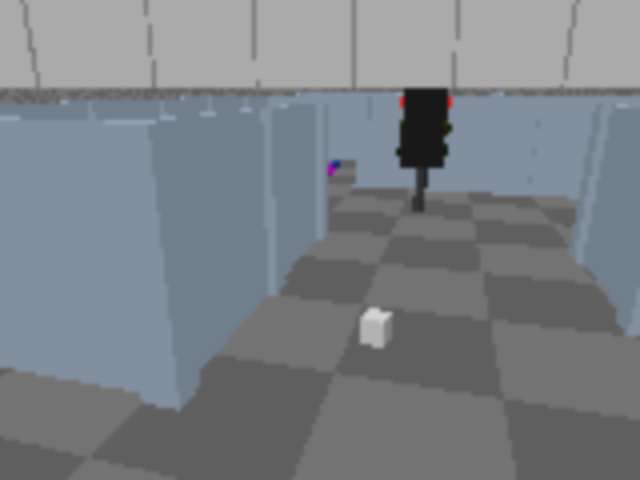puck: (359, 308, 393, 349)
traffic_light: (397, 81, 449, 218)
